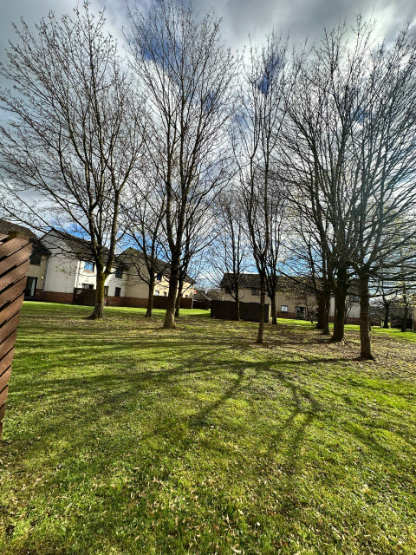car: (124, 0, 260, 346), (2, 0, 133, 316), (230, 34, 319, 340)
tree: (305, 11, 416, 383)
